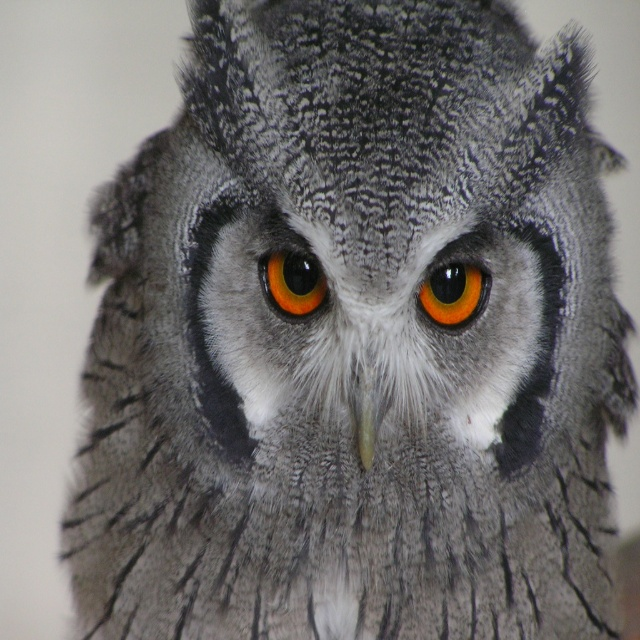Owl: (34, 0, 640, 640)
